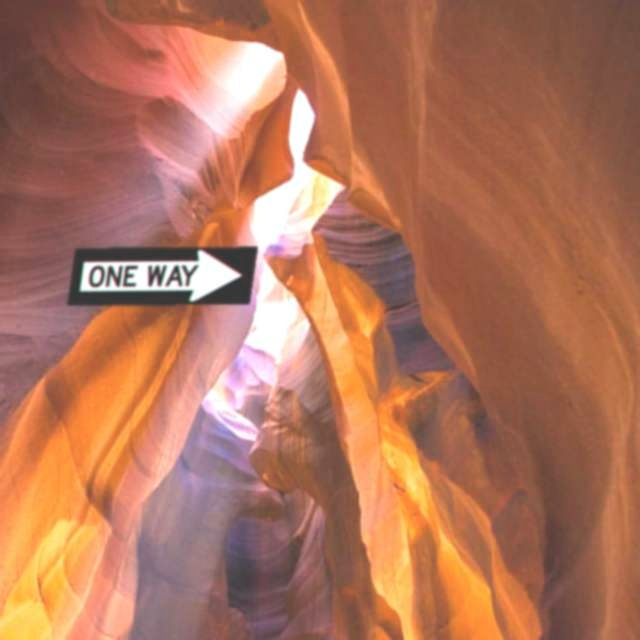ONE_WAY_ right: (66, 246, 258, 306)
